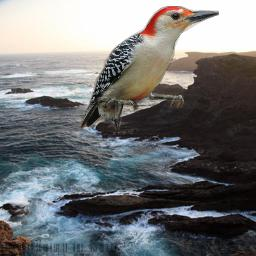Woodpecker: (79, 6, 219, 130)
